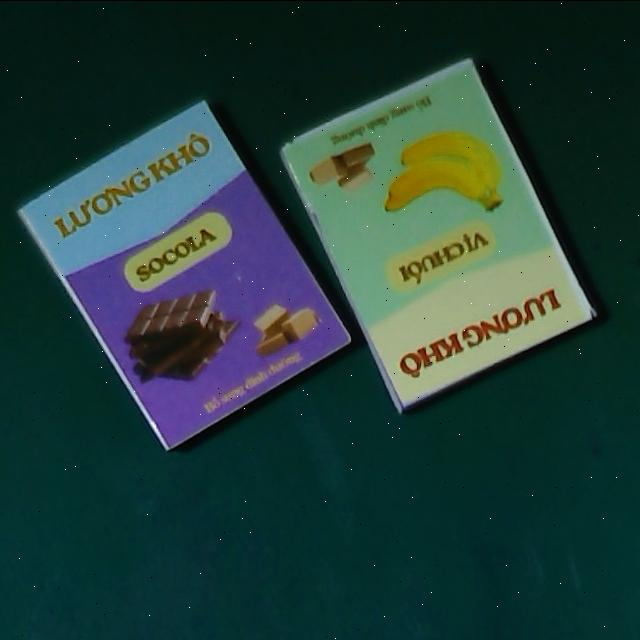chuoi: (275, 53, 598, 414)
socola: (16, 95, 353, 454)
